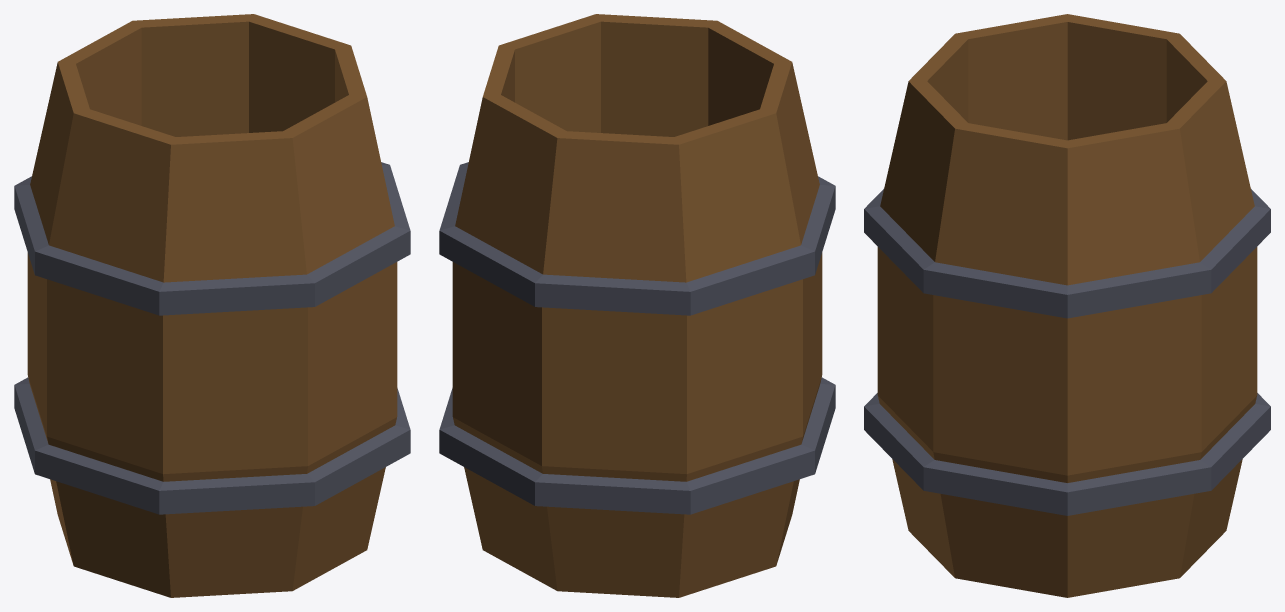
File: barrel.fbx
3 views of the same model, side by side, from view 1: azimuth 30°, elevation 25°; view 2: azimuth 150°, elevation 25°; view 3: azimuth 270°, elevation 25° (orthographic).
Visible parts, largest first — view 1: Barrel; view 2: Barrel; view 3: Barrel.
Boxes of the visible parts, x1,y1,x2,y2 form: Barrel: (14, 14, 410, 597); Barrel: (439, 14, 835, 597); Barrel: (864, 14, 1270, 597).
Size of the model in its own units: 189 by 230 by 189.
